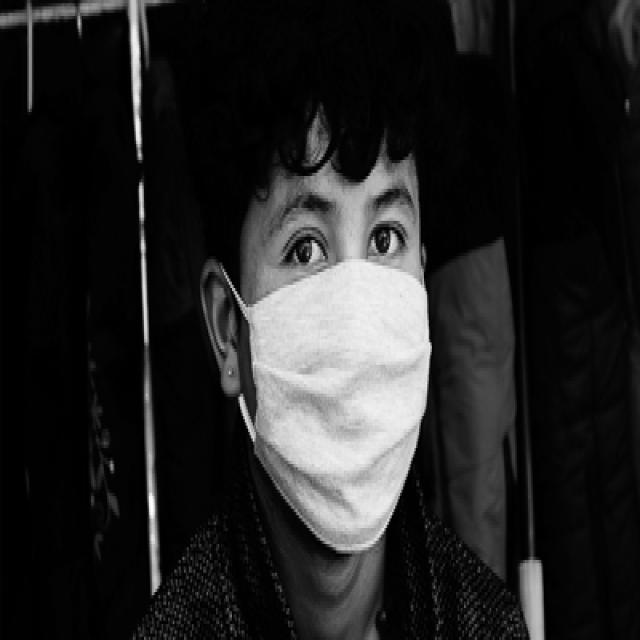mask: (242, 173, 432, 557)
